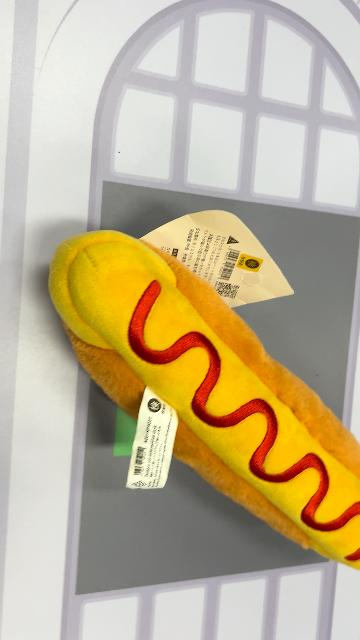hotdog: (47, 227, 358, 571)
